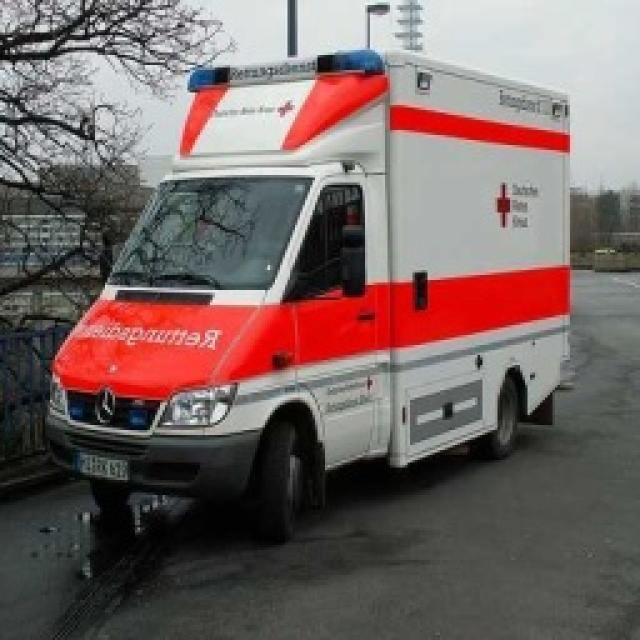emergency-vehicle: (39, 50, 576, 546)
